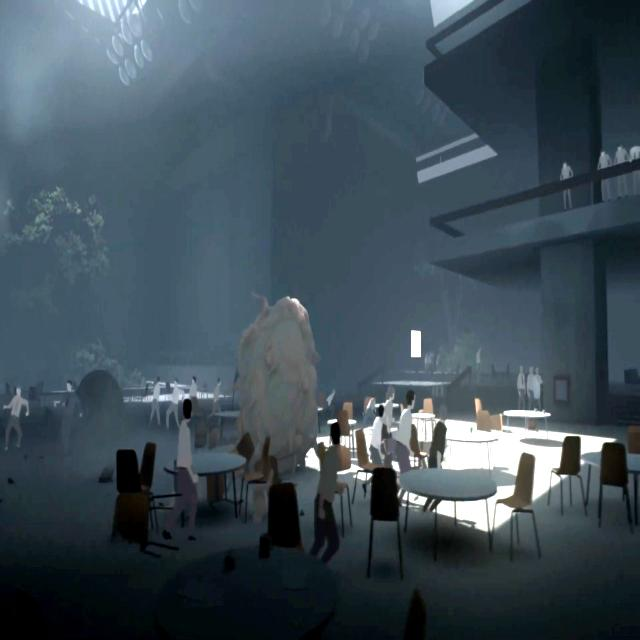blob: (235, 293, 318, 472)
human: (162, 400, 198, 546), (308, 424, 341, 566), (361, 402, 385, 504), (397, 389, 416, 507), (59, 379, 84, 455), (3, 388, 30, 452), (384, 385, 397, 461), (165, 376, 182, 428), (148, 376, 162, 426), (599, 147, 611, 205), (615, 144, 627, 199), (560, 165, 573, 210), (629, 141, 640, 192), (517, 363, 526, 411), (190, 371, 199, 417), (210, 377, 222, 411), (526, 367, 535, 408), (536, 366, 543, 411)
